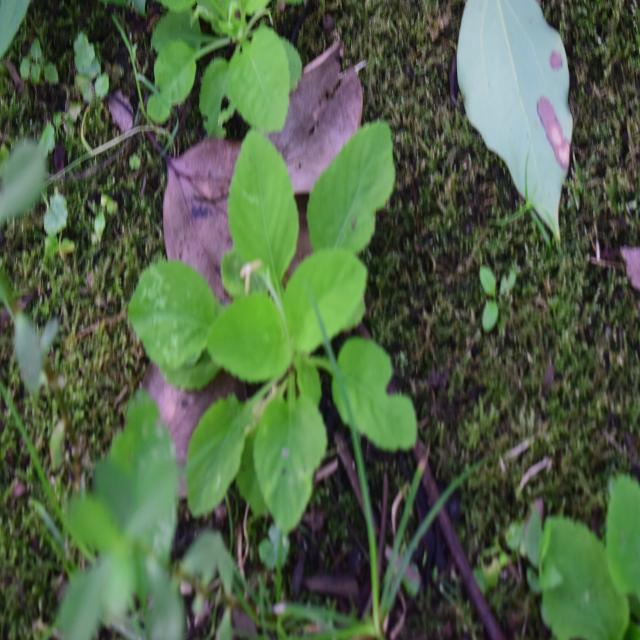Viola: (156, 125, 416, 527)
